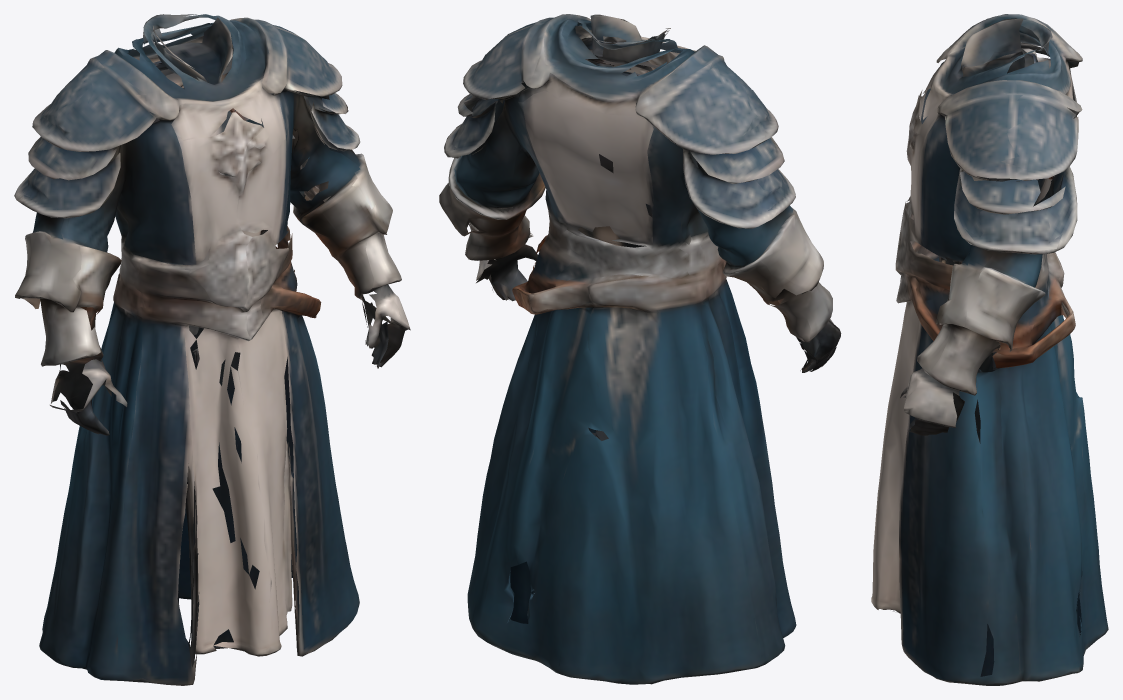
The model's file is armor_mage_robe_chest.glb.
3 renders of one model, left to right at view 1: azimuth 30°, elevation 25°; view 2: azimuth 150°, elevation 25°; view 3: azimuth 270°, elevation 25°, orthographic. The views are drawn at different scales.
Parts seen in each view (by area): view 1: world; view 2: world; view 3: world.
Boxes of the visible parts, left/top/right/bottom form: world: left=14, top=14, right=410, bottom=685; world: left=439, top=14, right=841, bottom=684; world: left=871, top=14, right=1108, bottom=685.
Size of the model in its own units: 0.6243 by 0.9956 by 0.3574.
Materials: 1 (1 with a texture image).
